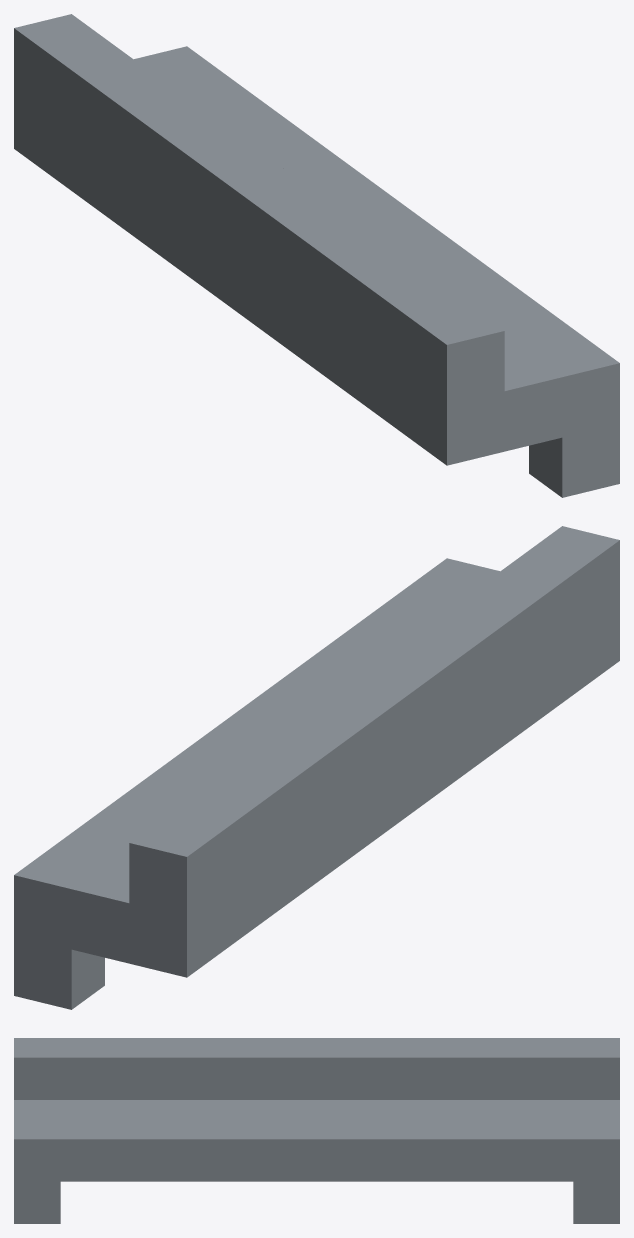
File: silla_asfalto_00.fbx
3 renders of one model, top to bottom at view 1: azimuth 30°, elevation 25°; view 2: azimuth 150°, elevation 25°; view 3: azimuth 270°, elevation 25°, orthographic. The views are drawn at different scales.
Visible parts, largest first — view 1: sillas_Asfalto; view 2: sillas_Asfalto; view 3: sillas_Asfalto.
Part boxes in pixels (x1,y1,x2,y2): sillas_Asfalto: (14,14,619,497); sillas_Asfalto: (14,526,619,1009); sillas_Asfalto: (14,1038,619,1223).
Size of the model in its own units: 30 by 30 by 130.
1 material, 1 textured.
